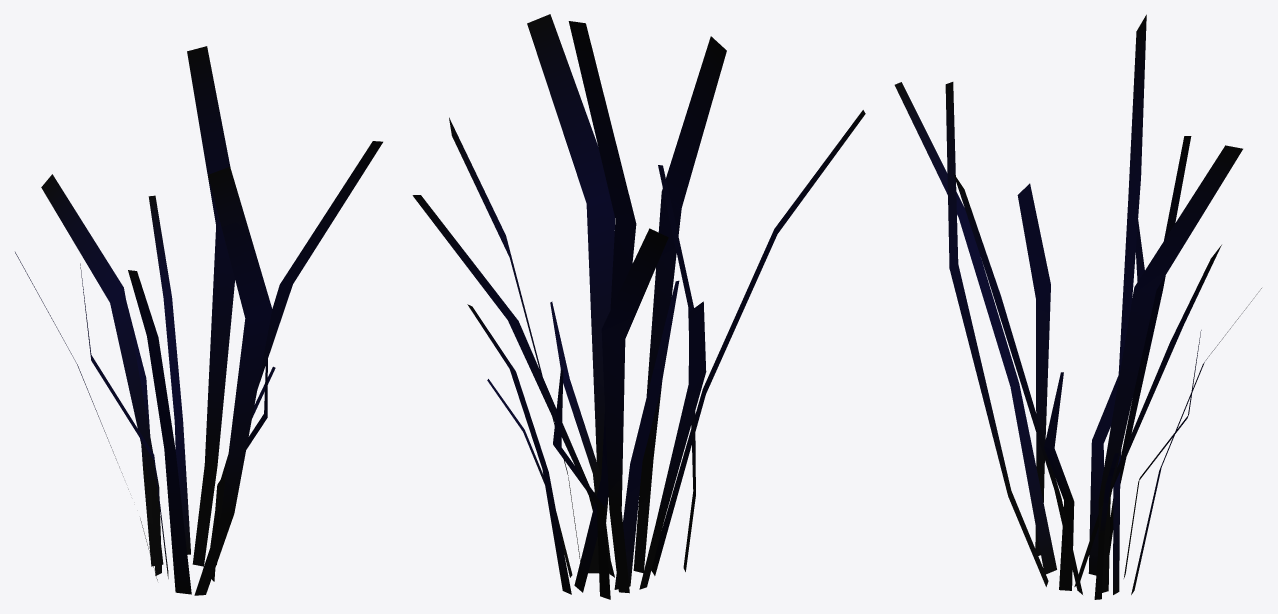
Rendered from SM_Foliage_ReedA_05.fbx.
The picture shows the model from 3 angles, left to right: view 1: azimuth 30°, elevation 25°; view 2: azimuth 150°, elevation 25°; view 3: azimuth 270°, elevation 25°; orthographic projection. The views are drawn at different scales.
Visible parts, largest first — view 1: SM_Foliage_ReedA_05; view 2: SM_Foliage_ReedA_05; view 3: SM_Foliage_ReedA_05.
Boxes of the visible parts, x1=… form: SM_Foliage_ReedA_05: x1=15, y1=46, x2=382, y2=595; SM_Foliage_ReedA_05: x1=412, y1=14, x2=865, y2=599; SM_Foliage_ReedA_05: x1=894, y1=14, x2=1261, y2=599.
Size of the model in its own units: 64.18 by 68.62 by 117.
